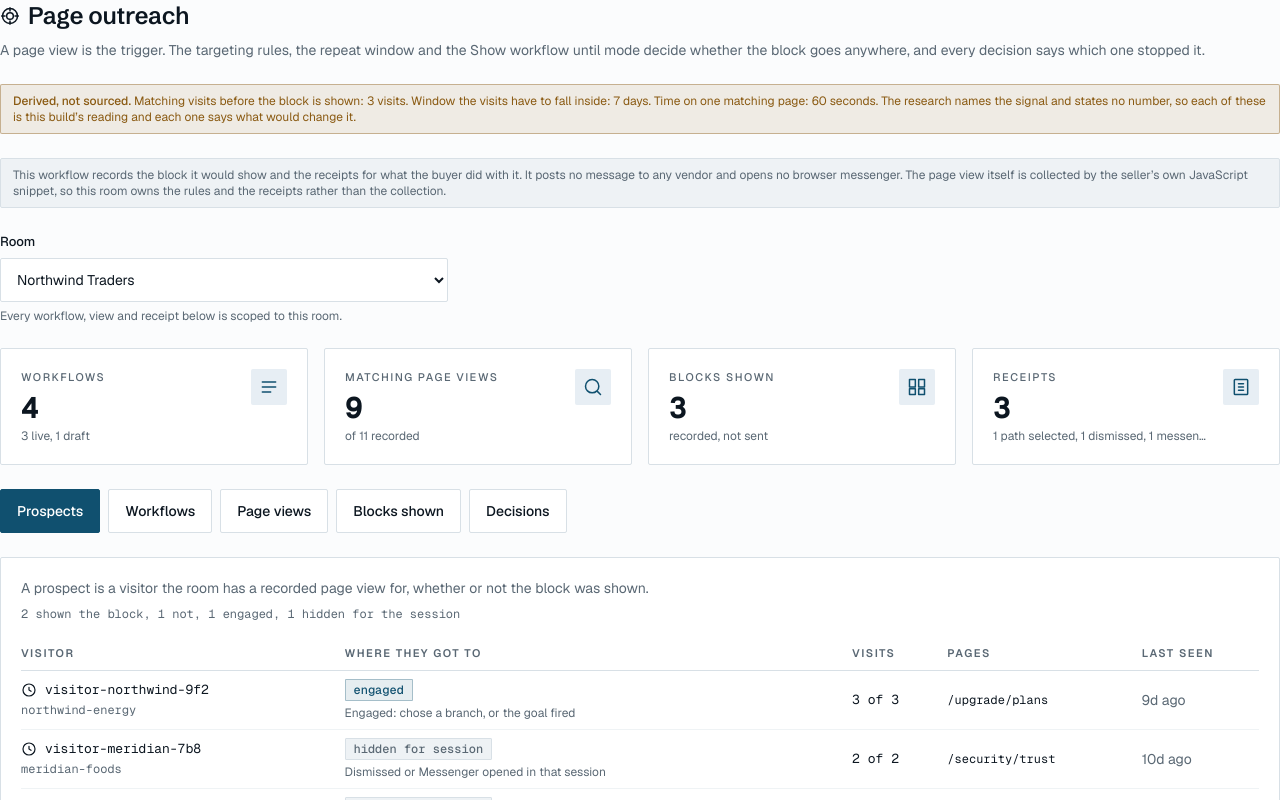
the workflows tab › saves a workflow through the create route with the rules it was given
Expected: the heading "Page outreach" is shown, [28,0,189,32]
Click the button "Workflows" at (160, 511), box [108,489,212,533]
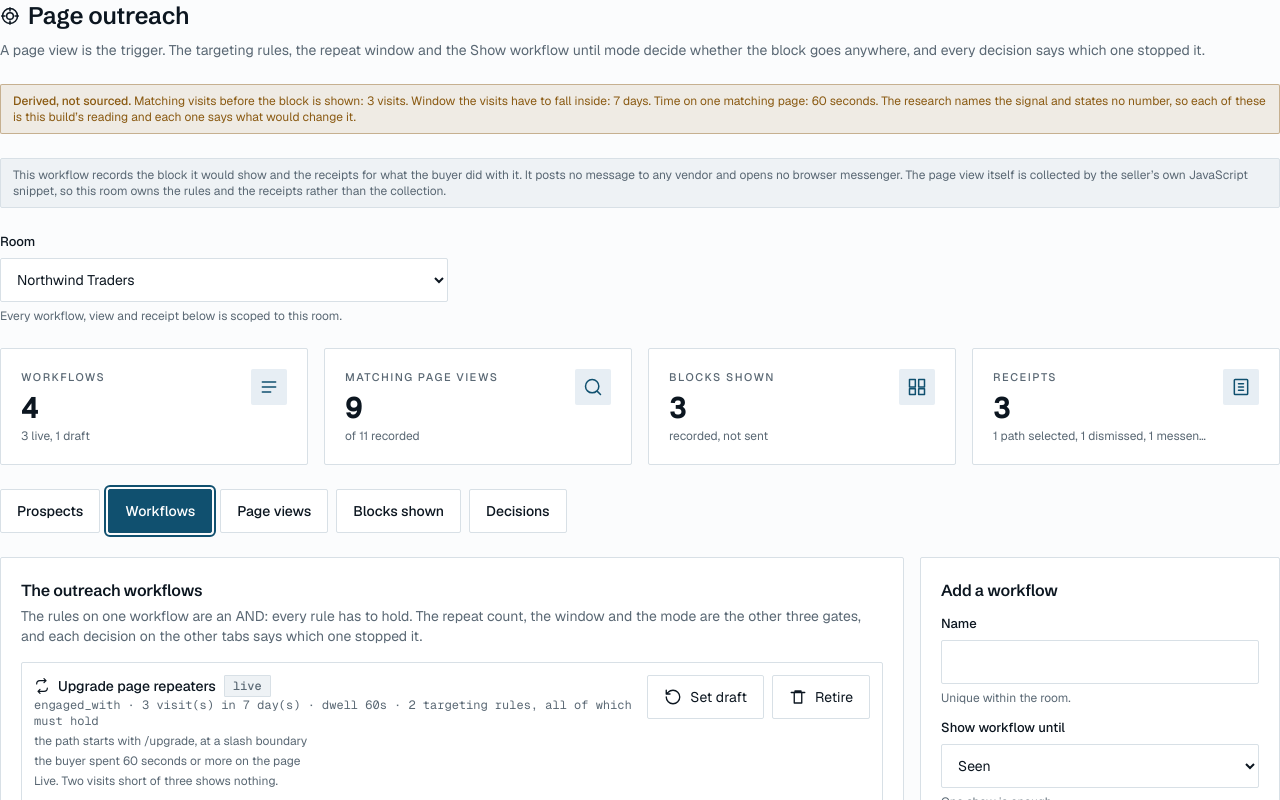
Result: the heading "The outreach workflows" is shown at [21,580,202,600]
Type "Pricing repeaters" into the field labelled "Name" at (1100, 662), box [941,640,1259,684]
(page scrolled)
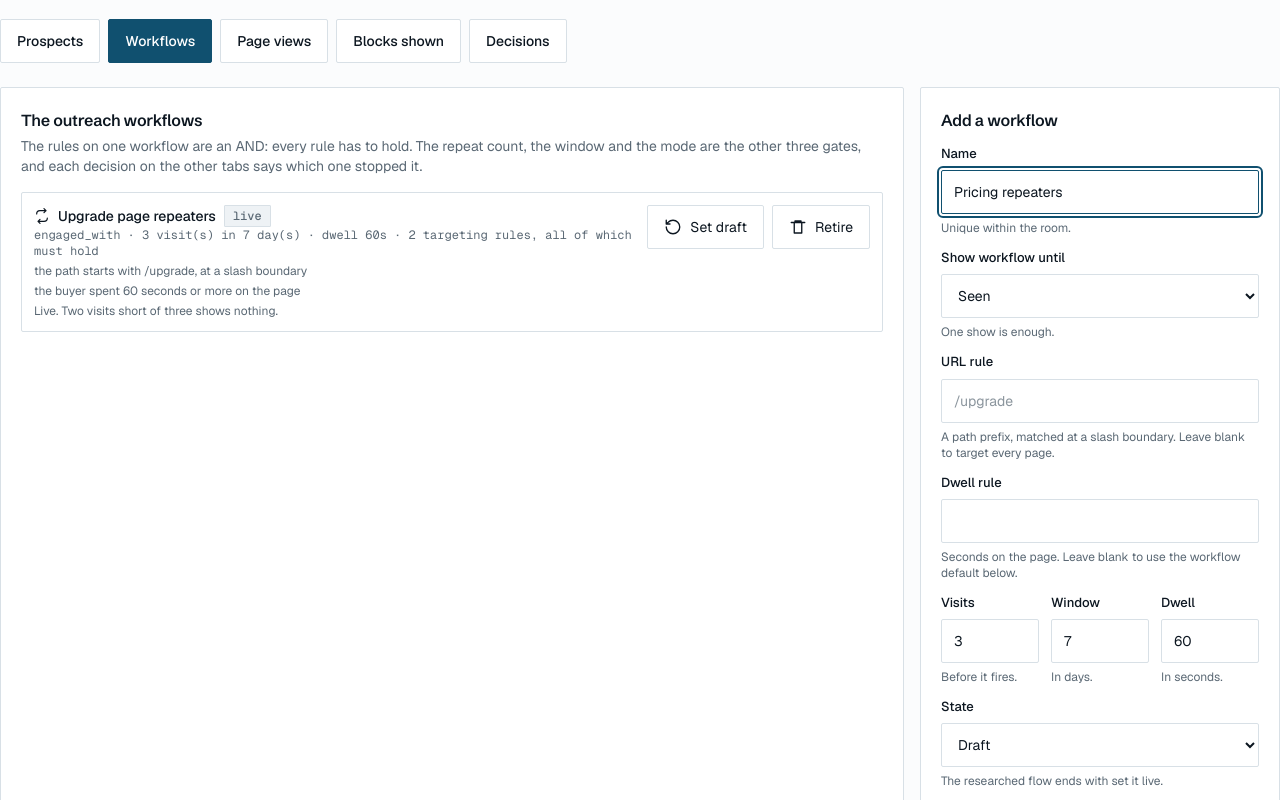
Type "/pricing" into the field labelled "URL rule" at (1100, 401), box [941,379,1259,423]
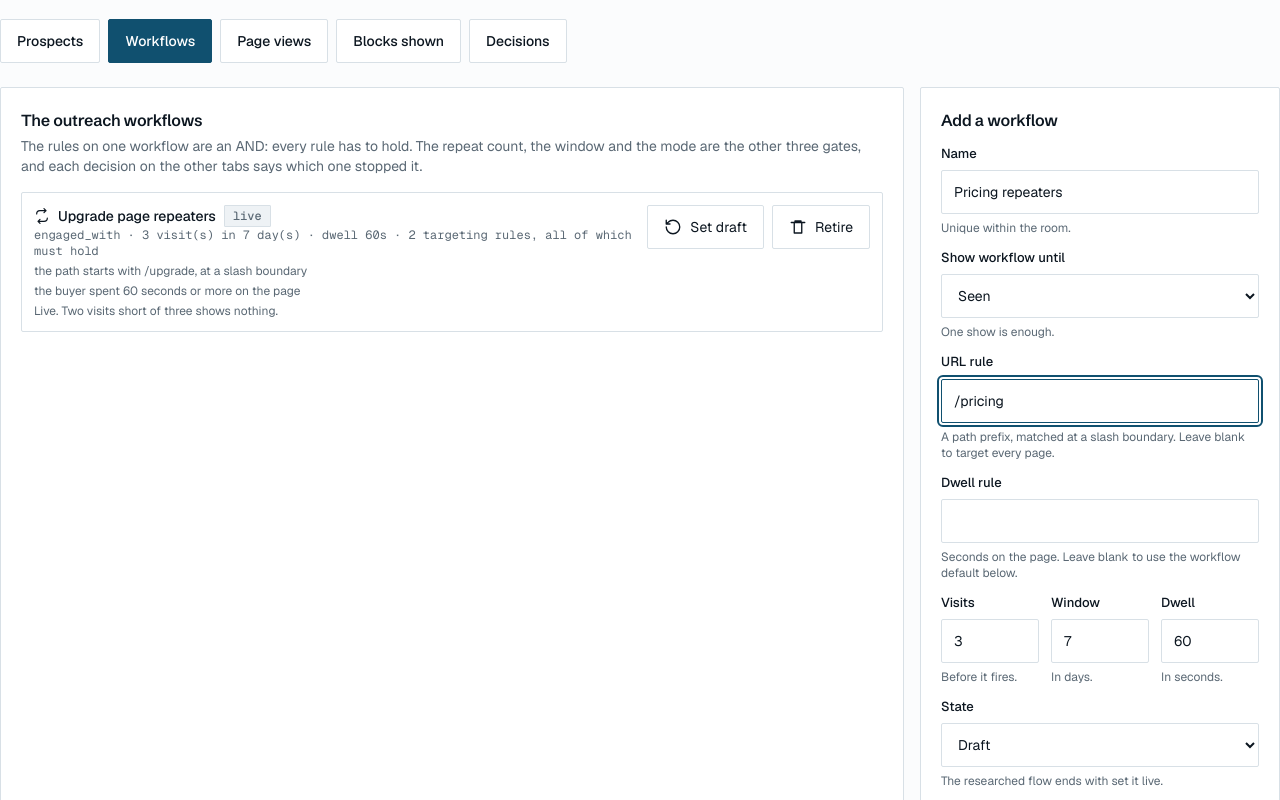
Type "45" into the field labelled "Dwell rule" at (1100, 521), box [941,499,1259,543]
(page scrolled)
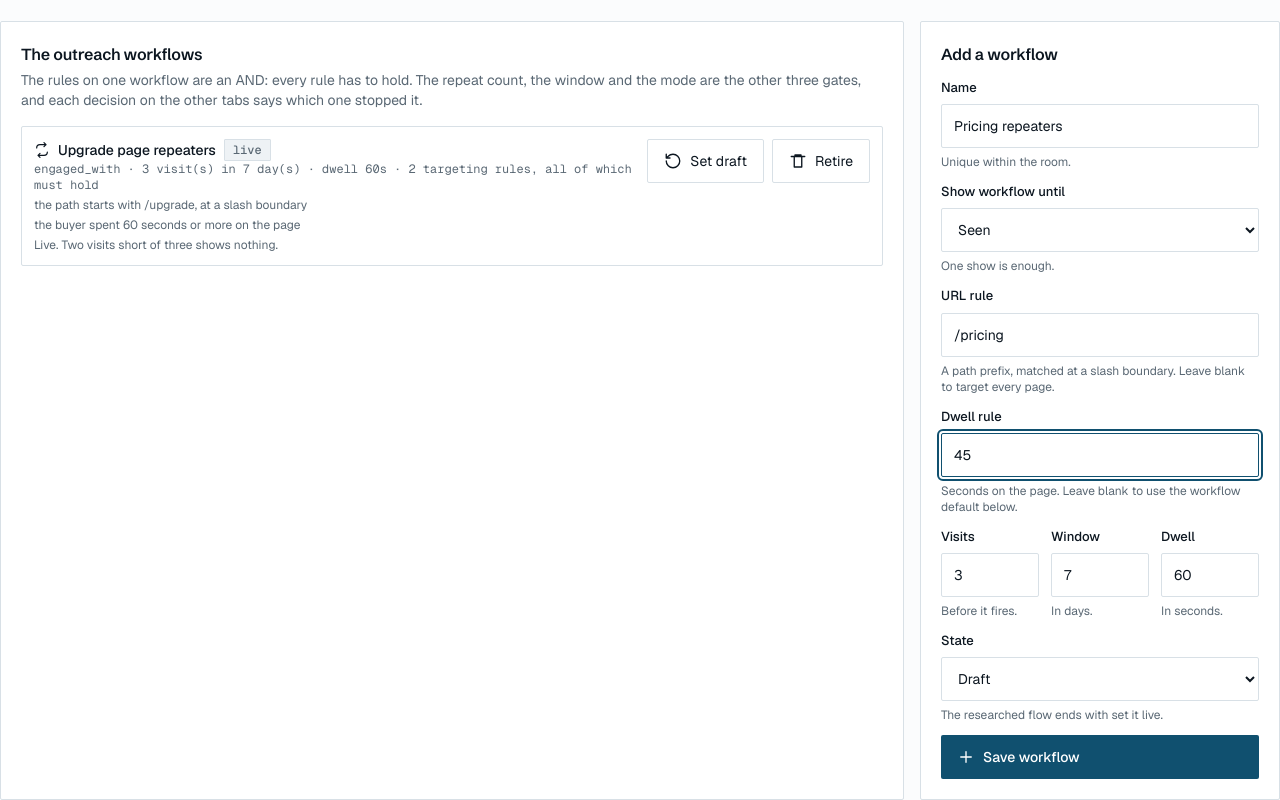
Click the button "Save workflow" at (1031, 757), box [941,735,1259,779]
(page scrolled)
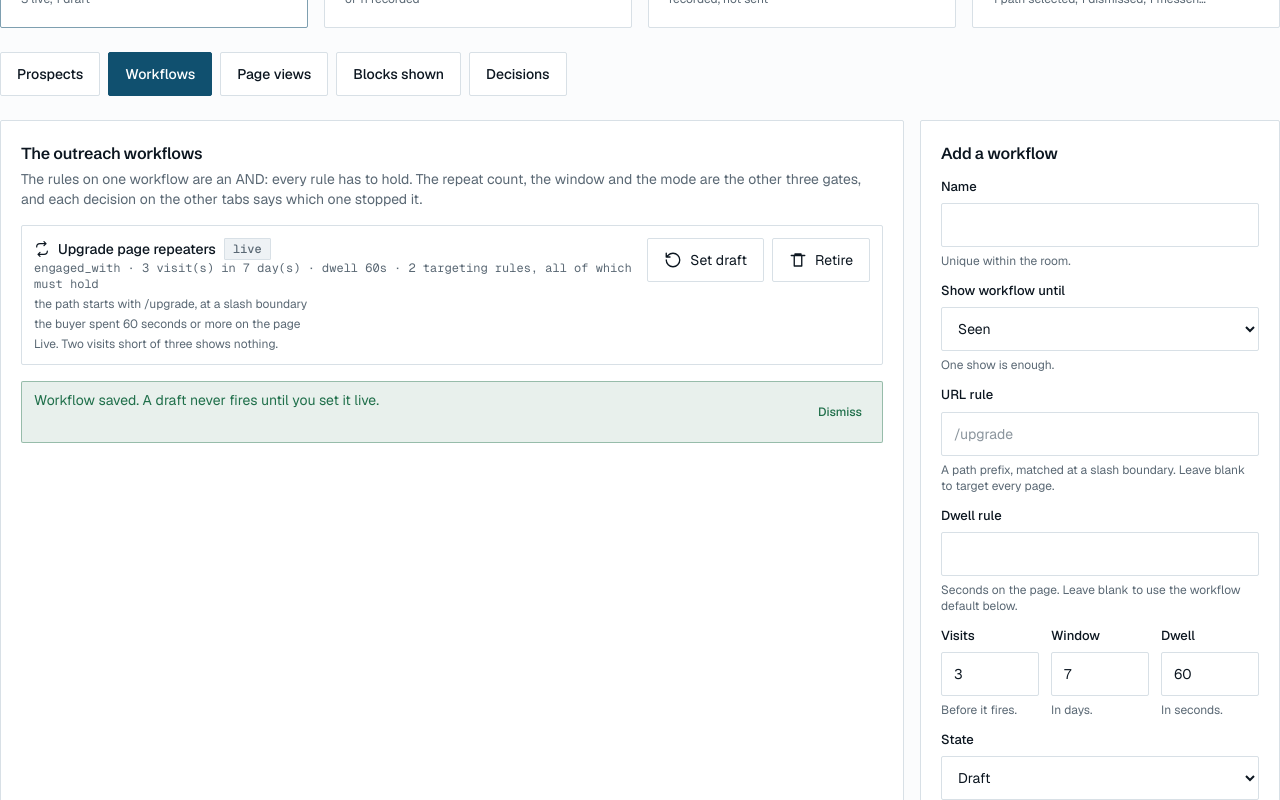
Result: the text "Workflow saved. A draft never fires until you set it live." is shown at [34,390,379,410]
